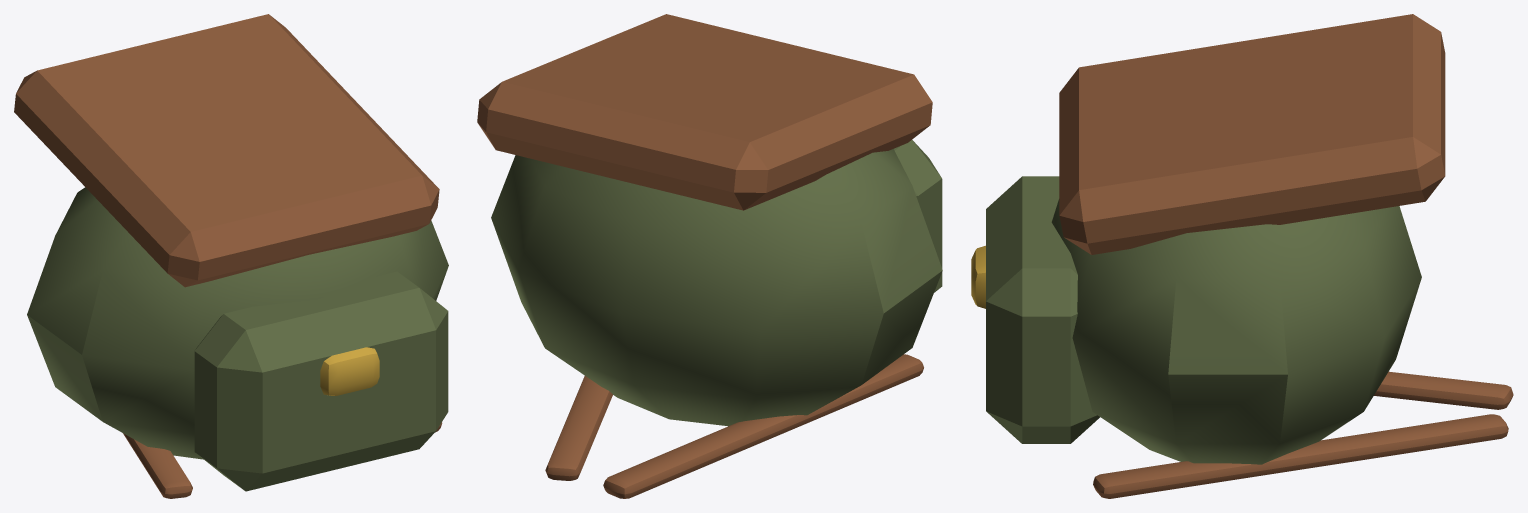
File: Prop_LootBag.fbx
3 views of the same model, side by side, from view 1: azimuth 30°, elevation 25°; view 2: azimuth 150°, elevation 25°; view 3: azimuth 270°, elevation 25° (orthographic). The views are drawn at different scales.
Visible parts, largest first — view 1: Pocket, Sack; view 2: Sack, Pocket; view 3: Pocket, Sack.
Part boxes in pixels (x1,y1,x2,y2): Pocket: [14, 14, 448, 498]; Sack: [27, 187, 448, 459]; Sack: [491, 149, 942, 426]; Pocket: [477, 14, 942, 498]; Pocket: [971, 14, 1513, 498]; Sack: [1051, 199, 1421, 464].
Size of the model in its own units: 1.9 by 1.67 by 2.24.
